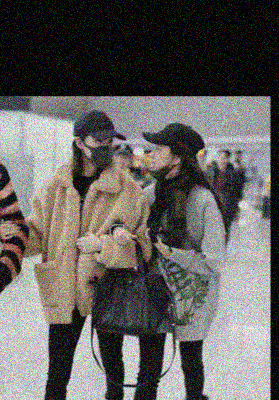mask_weared_incorrect: (147, 143, 174, 176)
with_mask: (81, 135, 114, 168)
